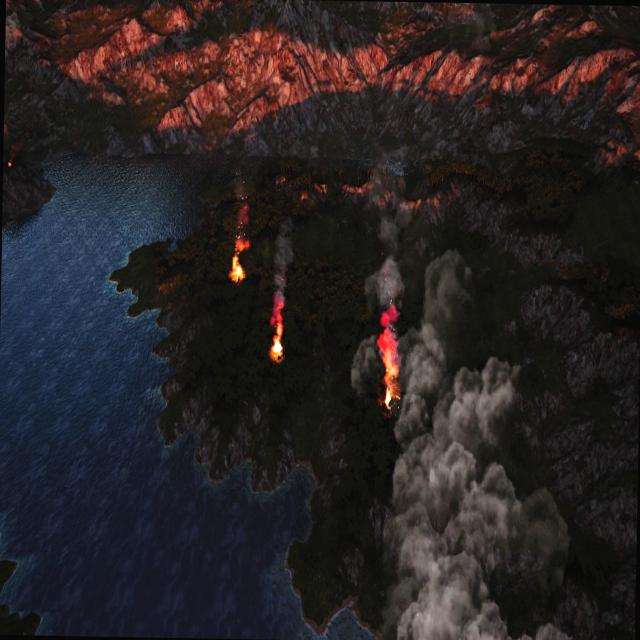fire: (377, 309, 400, 387), (269, 300, 286, 360), (231, 256, 245, 282), (381, 386, 393, 408), (6, 144, 17, 168), (6, 158, 12, 168)
smoke: (347, 208, 569, 640), (370, 215, 404, 308), (272, 222, 293, 319), (235, 201, 250, 255)
